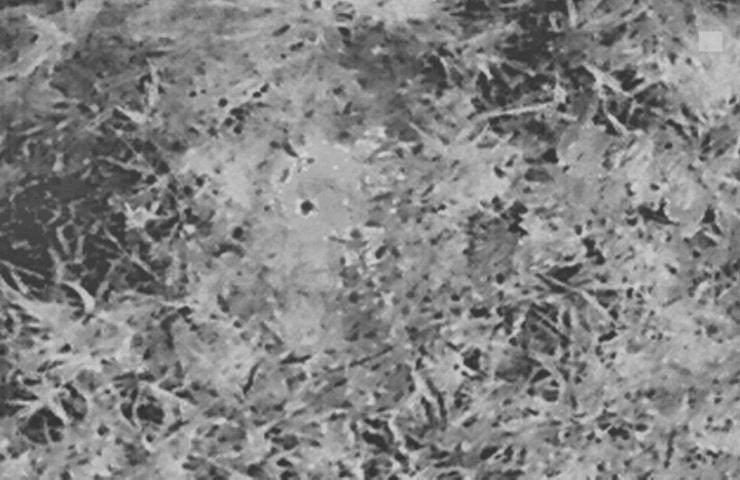landmines: (274, 137, 392, 251)
